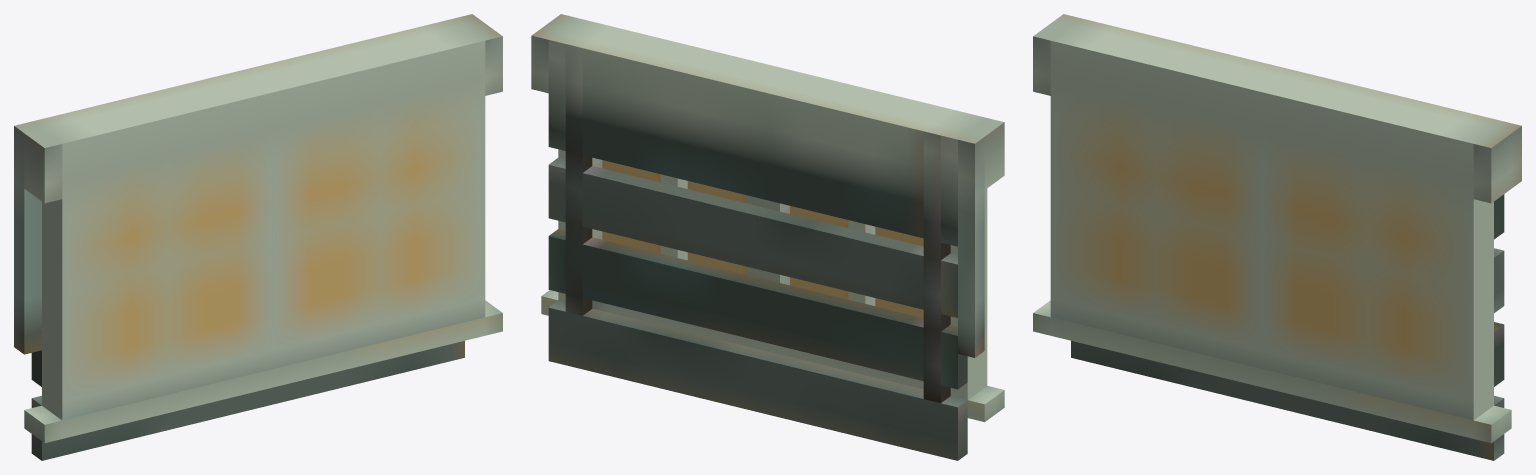
Rendered from BlindsDarkBlue_00.fbx.
The picture shows the model from 3 angles, left to right: view 1: azimuth 30°, elevation 25°; view 2: azimuth 150°, elevation 25°; view 3: azimuth 330°, elevation 25°; orthographic projection. The views are drawn at different scales.
Parts seen in each view (by area): view 1: BlindsDarkBlue_00; view 2: BlindsDarkBlue_00; view 3: BlindsDarkBlue_00.
Part boxes in pixels (bbox=[...]): BlindsDarkBlue_00: bbox=[14, 14, 502, 460]; BlindsDarkBlue_00: bbox=[531, 14, 1004, 460]; BlindsDarkBlue_00: bbox=[1033, 14, 1521, 460].
Size of the model in its own units: 130 by 15 by 90.
Materials: 1 (1 with a texture image).
